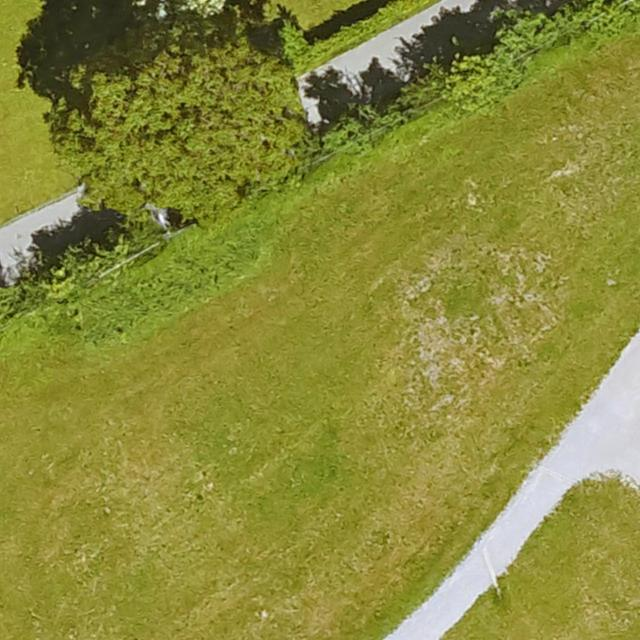tree: (64, 33, 309, 202)
